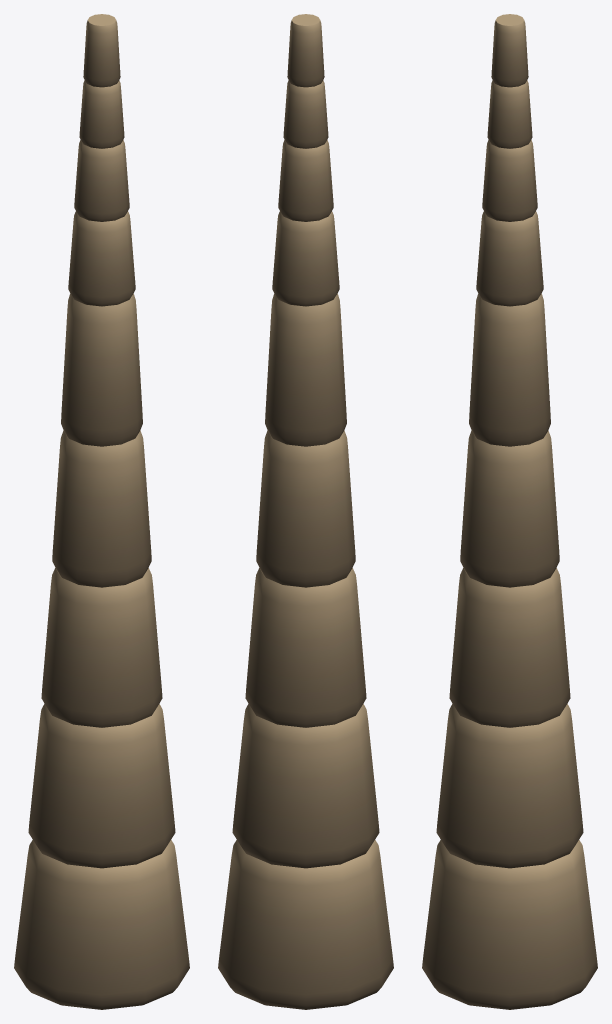
Rendered from trunk.fbx.
3 views of the same model, side by side, from view 1: azimuth 30°, elevation 25°; view 2: azimuth 150°, elevation 25°; view 3: azimuth 270°, elevation 25° (orthographic).
Visible parts, largest first — view 1: trunk; view 2: trunk; view 3: trunk.
Boxes of the visible parts, x1,y1,x2,y2 form: trunk: (14, 14, 189, 1009); trunk: (218, 14, 393, 1009); trunk: (422, 14, 597, 1009).
Bounding box in the file's own units: 0.6946 × 4.16 × 0.6946.
1 material, 1 textured.
